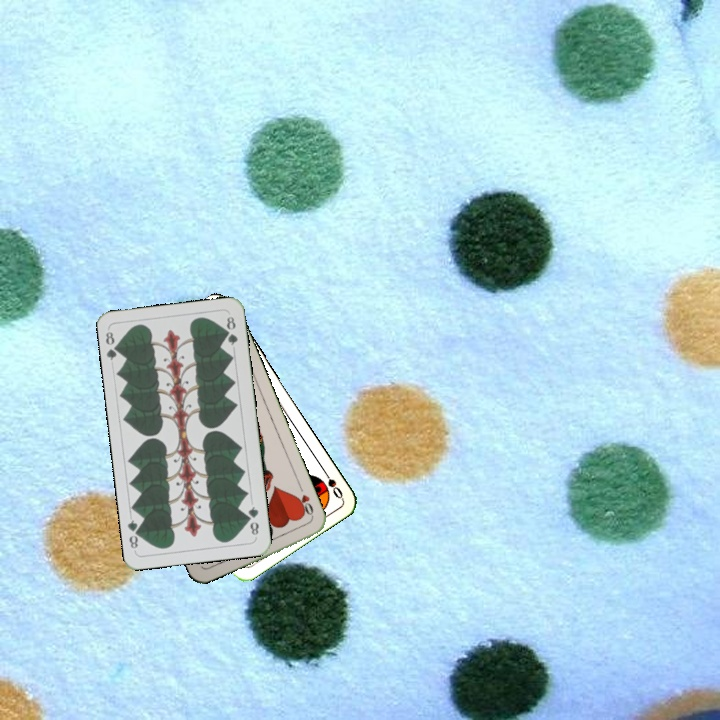G8: (102, 328, 123, 363), (243, 502, 262, 538)
HO: (291, 482, 316, 521)
SO: (318, 464, 346, 501)
